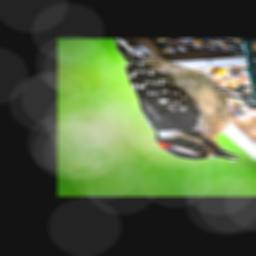Woodpecker: (114, 39, 256, 161)
